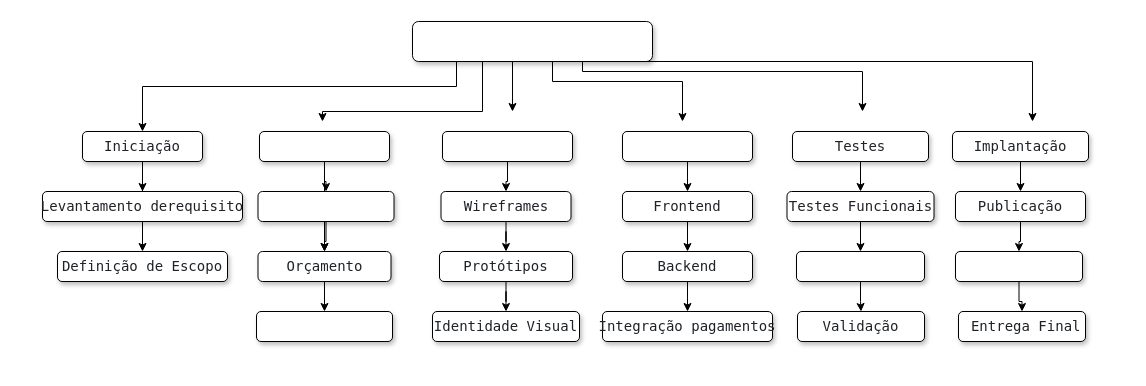
The diagram is 1146 pixels wide and 386 high, and some of its shapes have lost their labels. Each missing label, with the centre of its shape:
Correções: (x=861, y=267)
Cronograma: (x=326, y=207)
Desenvolvimento: (x=688, y=147)
Desenvolvimento Sistema de agendamento: (x=533, y=42)
Design: (x=508, y=147)
Planejamento: (x=325, y=147)
RACI: (x=325, y=327)
Treinamento: (x=1019, y=267)
